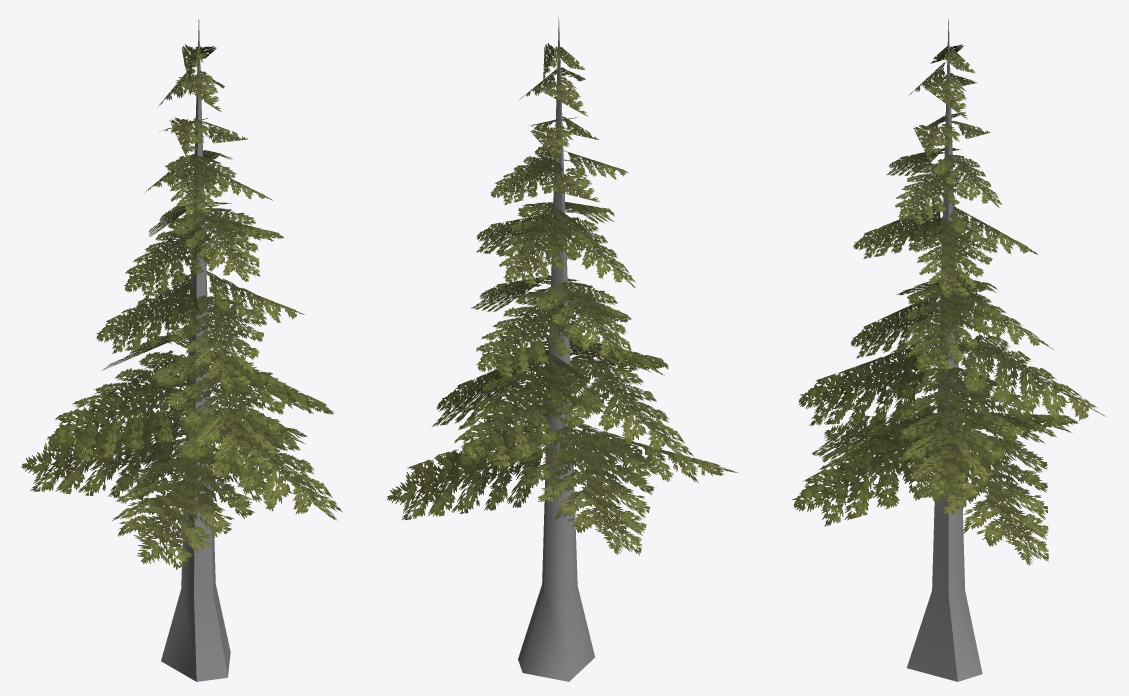
Rendered from Tree_05_2_LOD.fbx.
3 views of the same model, side by side, from view 1: azimuth 30°, elevation 25°; view 2: azimuth 150°, elevation 25°; view 3: azimuth 270°, elevation 25° (orthographic).
Visible parts, largest first — view 1: polySurface1579; view 2: polySurface1579; view 3: polySurface1579.
Boxes of the visible parts, bbox=[...] form: polySurface1579: bbox=[21, 19, 342, 681]; polySurface1579: bbox=[387, 17, 738, 681]; polySurface1579: bbox=[792, 19, 1105, 681].
Size of the model in its own units: 376 by 787 by 372.
2 materials, 1 textured.
